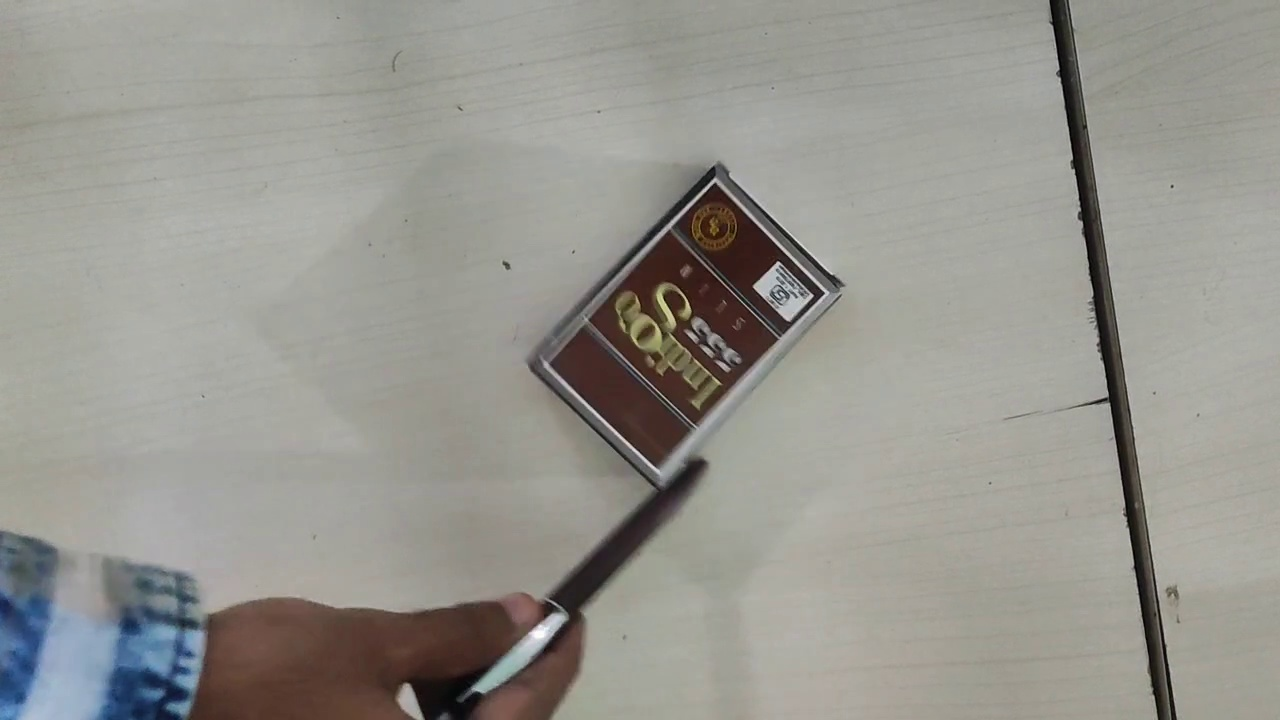BEX: (540, 177, 824, 473)
